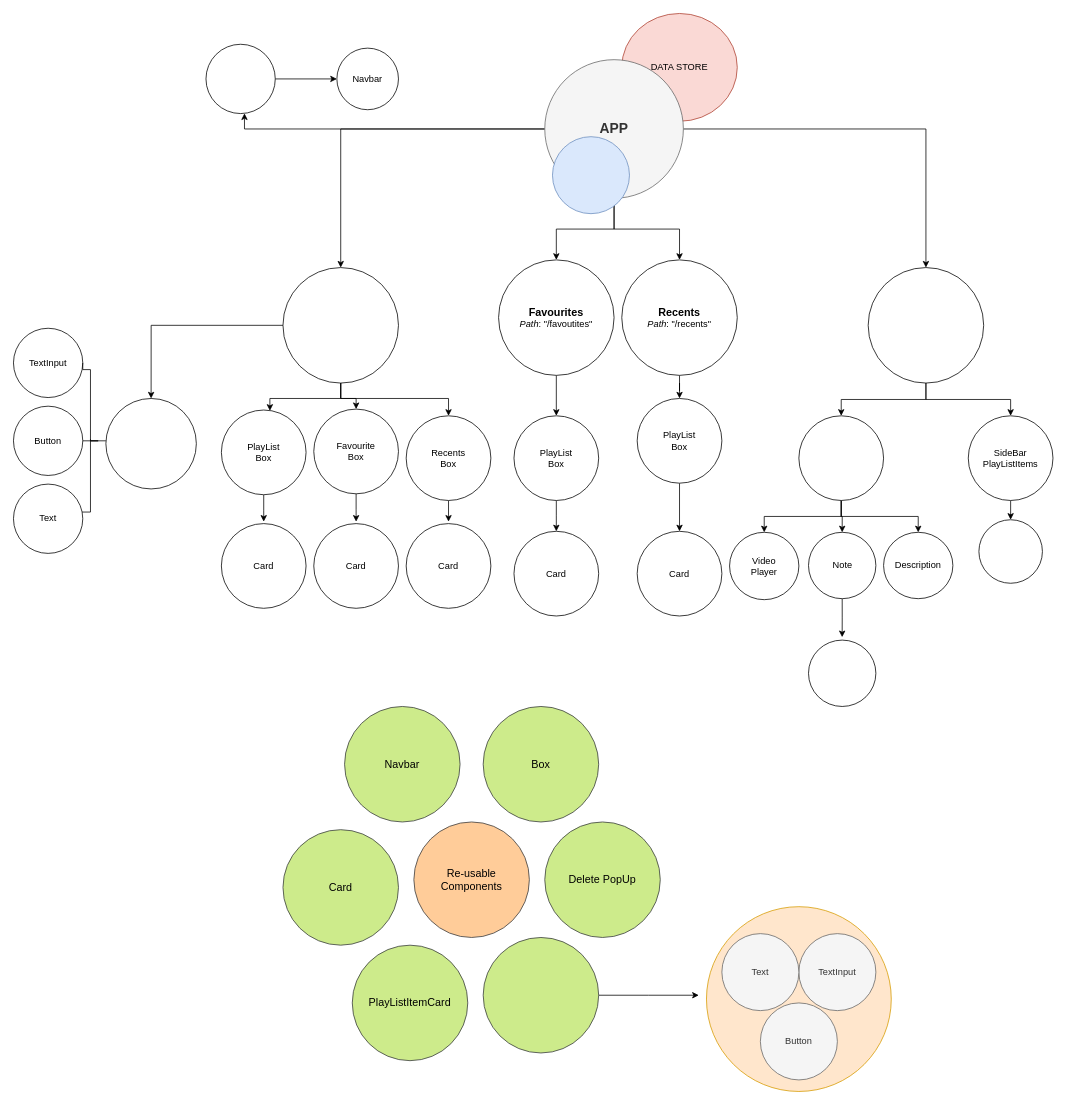
This 1066x1105 diagram has some shape labels left out. Here are the shapes that lost their labels. From the top down, the box of each, then its label:
(205, 44, 275, 114): Layout
(552, 136, 629, 214): Routes
(282, 267, 398, 383): Root Path : "/"
(867, 267, 984, 383): Playlist-details Path : "/playlist/:id"
(105, 398, 196, 489): Header
(798, 415, 884, 500): PlayListItem
(978, 519, 1042, 583): PlayListItem Card
(808, 639, 876, 706): Delete Modal
(482, 937, 599, 1053): UI
